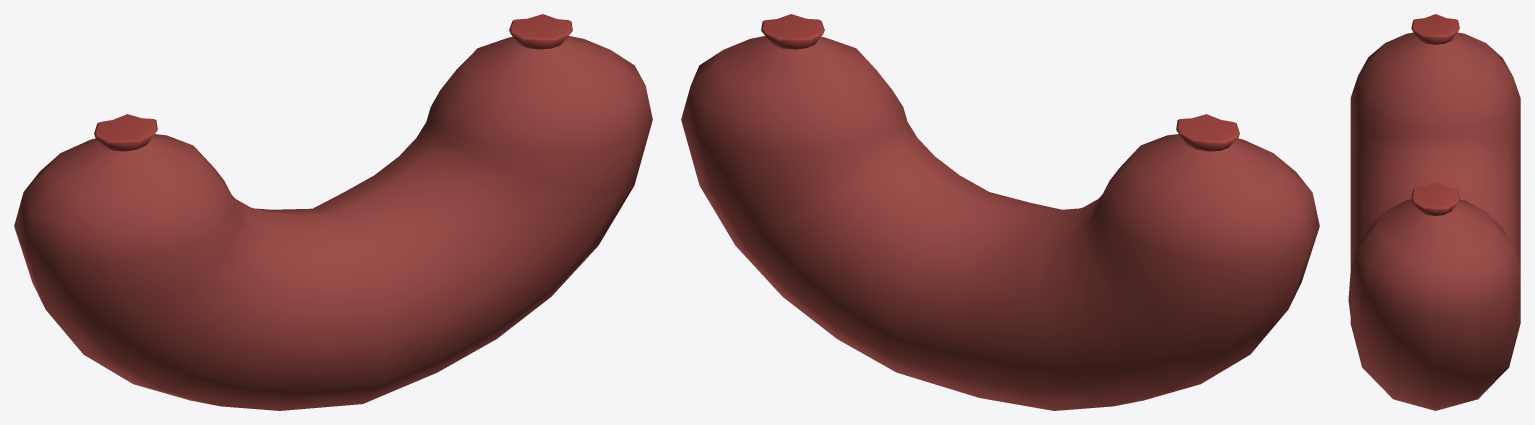
Rendered from Sausage_mini.004.fbx.
The picture shows the model from 3 angles, left to right: view 1: azimuth 30°, elevation 25°; view 2: azimuth 150°, elevation 25°; view 3: azimuth 270°, elevation 25°; orthographic projection. The views are drawn at different scales.
Parts seen in each view (by area): view 1: Sausage_mini.004; view 2: Sausage_mini.004; view 3: Sausage_mini.004.
Part boxes in pixels (x1,y1,x2,y2): Sausage_mini.004: [14, 14, 652, 410]; Sausage_mini.004: [681, 14, 1319, 410]; Sausage_mini.004: [1348, 14, 1520, 410].
Size of the model in its own units: 123 by 35.62 by 61.27.
